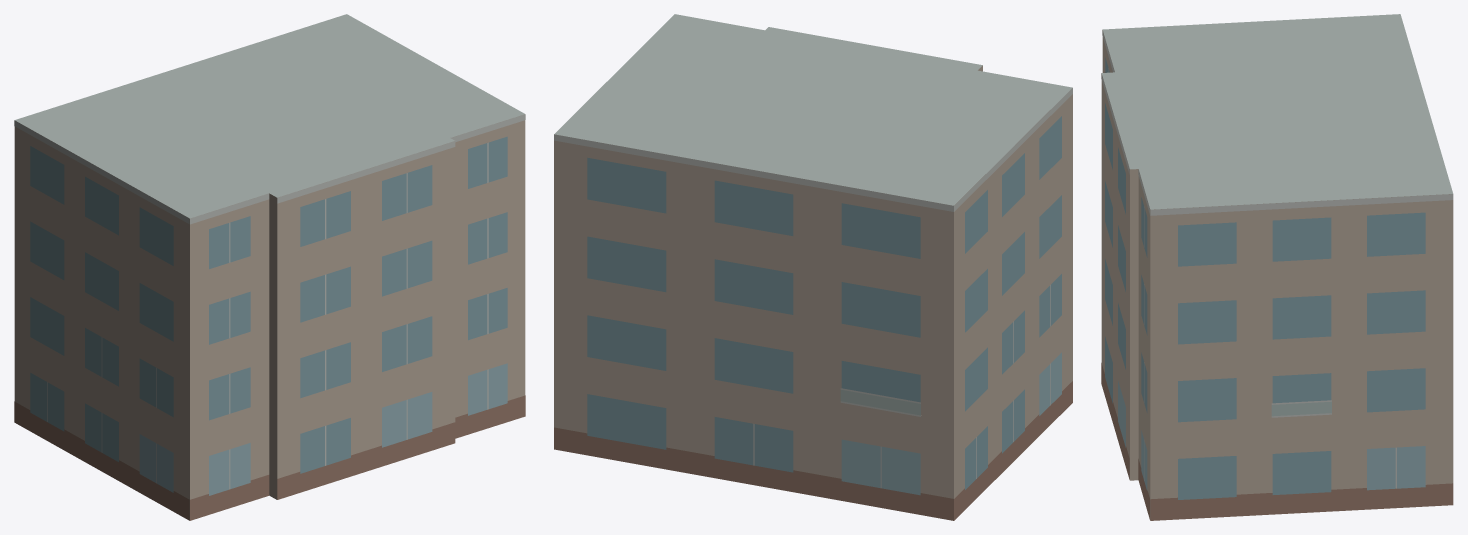
Rendered from survey-upis-32952314.glb.
3 views of the same model, side by side, from view 1: azimuth 30°, elevation 25°; view 2: azimuth 150°, elevation 25°; view 3: azimuth 270°, elevation 25° (orthographic). The views are drawn at different scales.
Parts seen in each view (by area): view 1: survey-upis-32952314.tmp; view 2: survey-upis-32952314.tmp; view 3: survey-upis-32952314.tmp.
Part boxes in pixels (box(x1,y1,x2,y2)): survey-upis-32952314.tmp: box(14, 14, 525, 520); survey-upis-32952314.tmp: box(554, 14, 1072, 520); survey-upis-32952314.tmp: box(1101, 14, 1453, 520).
Bounding box in the file's own units: 16.59 × 12.3 × 12.61.
